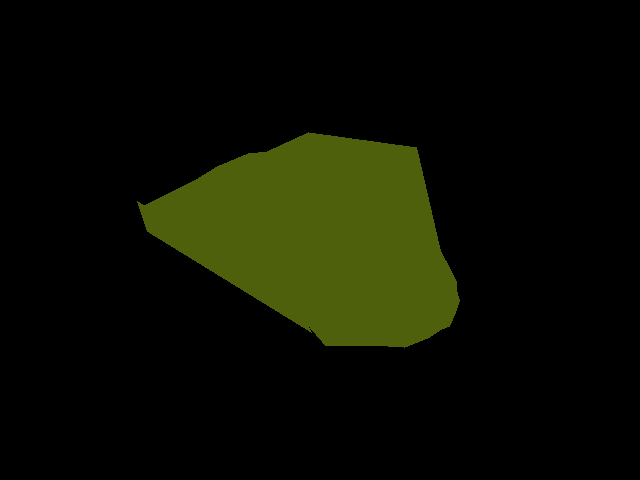Train: (137, 132, 459, 348)
